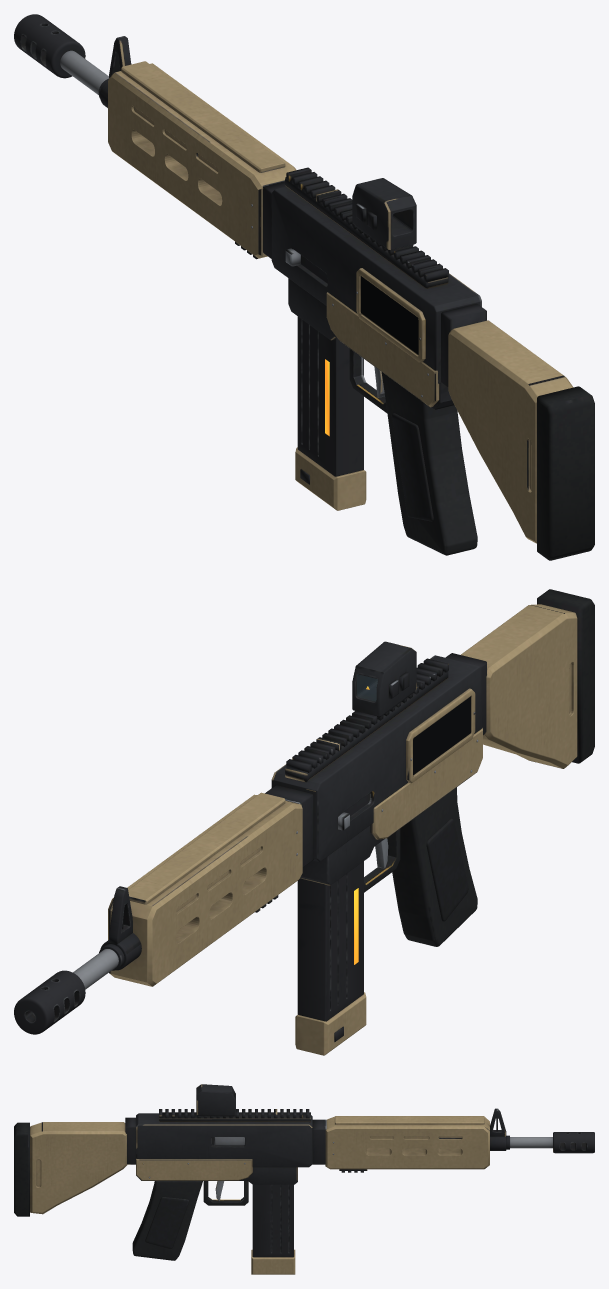
The model's file is auto.glb.
The picture shows the model from 3 angles, top to bottom: view 1: azimuth 30°, elevation 25°; view 2: azimuth 150°, elevation 25°; view 3: azimuth 270°, elevation 25°; orthographic projection. The views are drawn at different scales.
Parts seen in each view (by area): view 1: body, mag, battlestat_screen, battlestat_frame; view 2: body, mag, battlestat_screen, battlestat_frame; view 3: body, mag.
Boxes of the visible parts, box(x1,y1,x2,y2) form: body: box(14, 14, 594, 560); mag: box(295, 316, 366, 510); battlestat_screen: box(360, 276, 418, 354); battlestat_frame: box(356, 268, 425, 362); body: box(14, 589, 594, 1034); mag: box(295, 861, 366, 1055); battlestat_screen: box(413, 696, 470, 775); battlestat_frame: box(406, 688, 475, 783); body: box(14, 1084, 594, 1260); mag: box(251, 1184, 295, 1274).
Bounding box in the file's own units: 0.0506 × 0.3015 × 0.864.
Materials: 4 (1 with a texture image).
